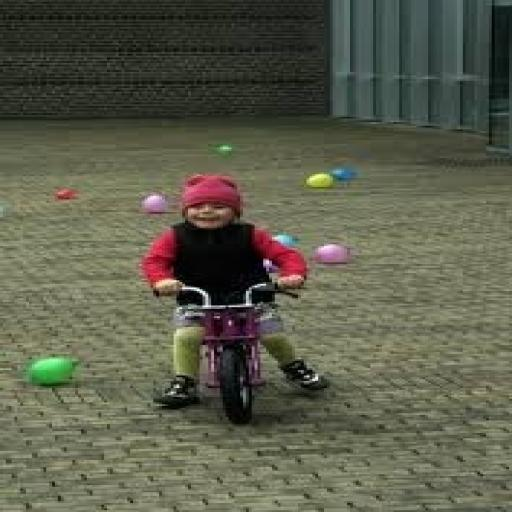cycling: (136, 172, 333, 410)
